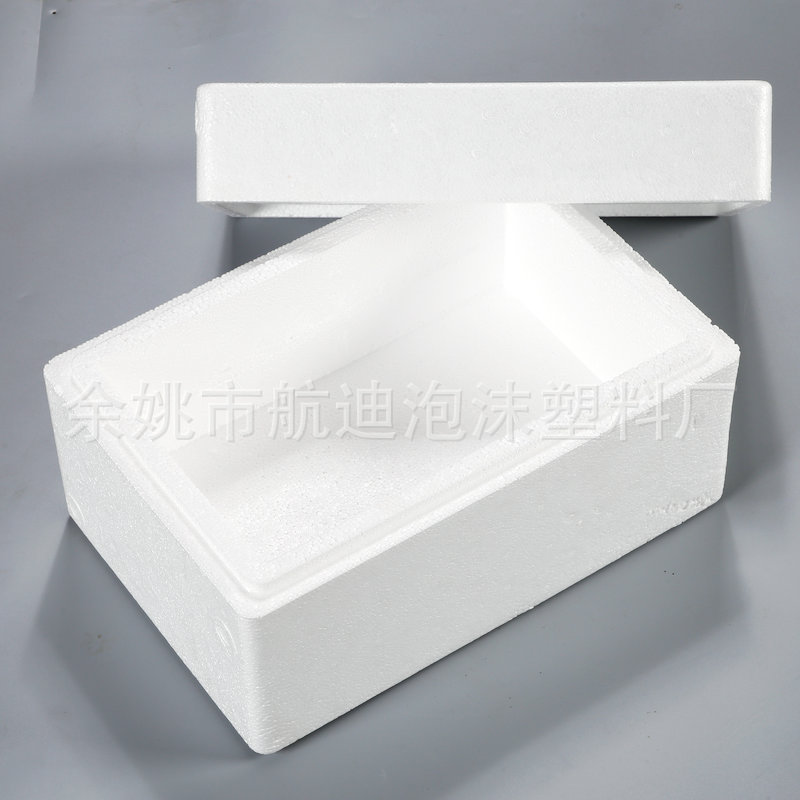泡沫箱: (44, 83, 770, 752)
